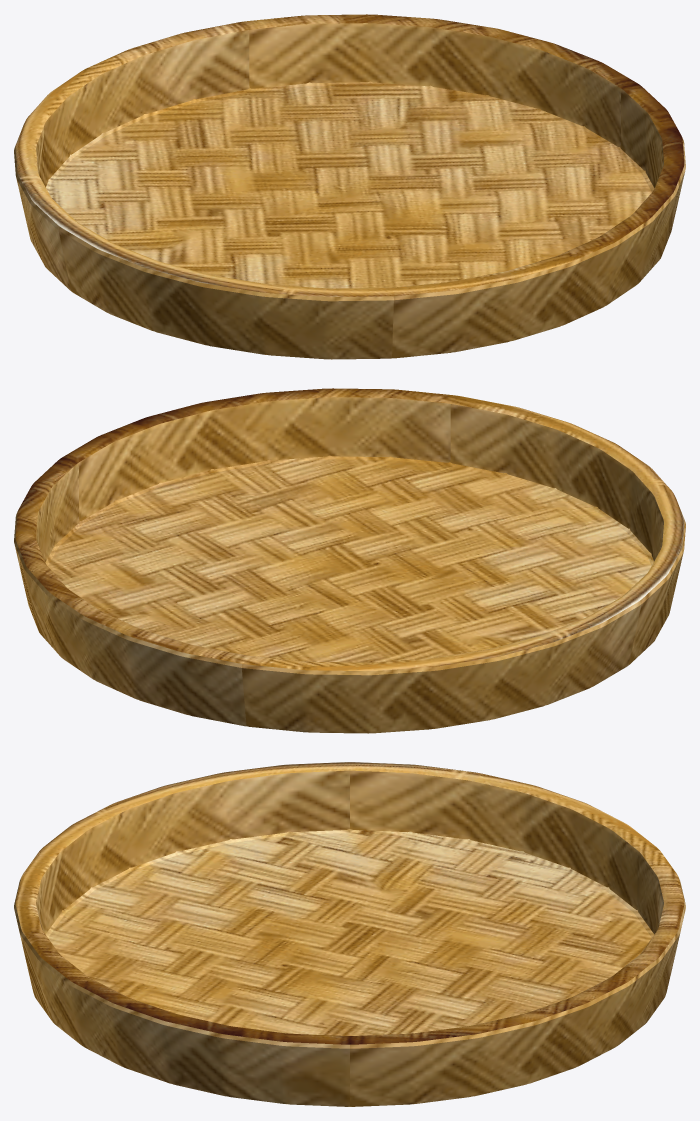
Rendered from met.fbx.
3 renders of one model, top to bottom at view 1: azimuth 30°, elevation 25°; view 2: azimuth 150°, elevation 25°; view 3: azimuth 270°, elevation 25°, orthographic.
Parts seen in each view (by area): view 1: plate; view 2: plate; view 3: plate.
Boxes of the visible parts, x1=… form: plate: x1=14, y1=14, x2=685, y2=359; plate: x1=14, y1=388, x2=685, y2=733; plate: x1=14, y1=762, x2=685, y2=1106.
Bounding box in the file's own units: 55.01 × 6.4 × 55.01.
1 material, 1 textured.
